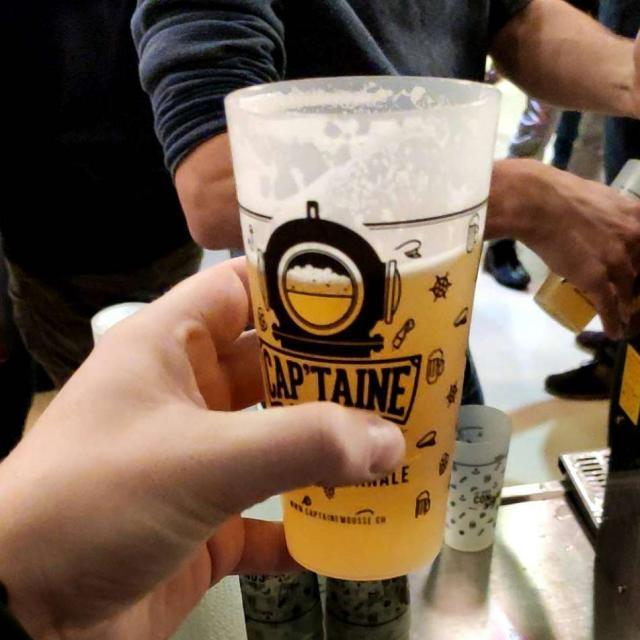beer: (239, 234, 473, 595)
